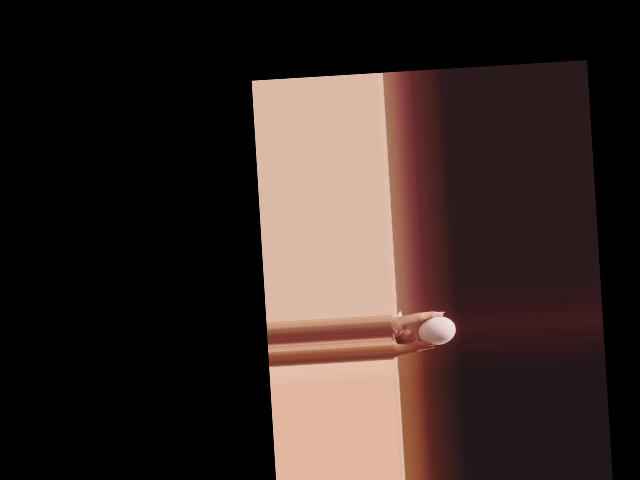egg: (416, 316, 456, 346)
